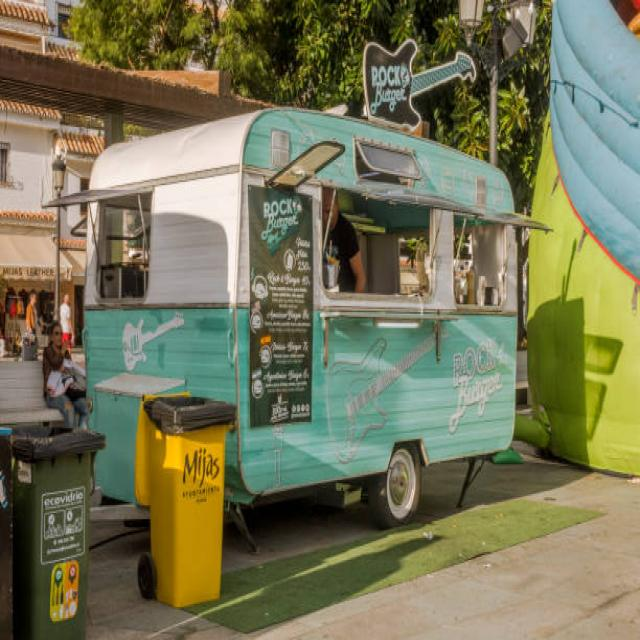Emperan: (36, 41, 558, 560)
